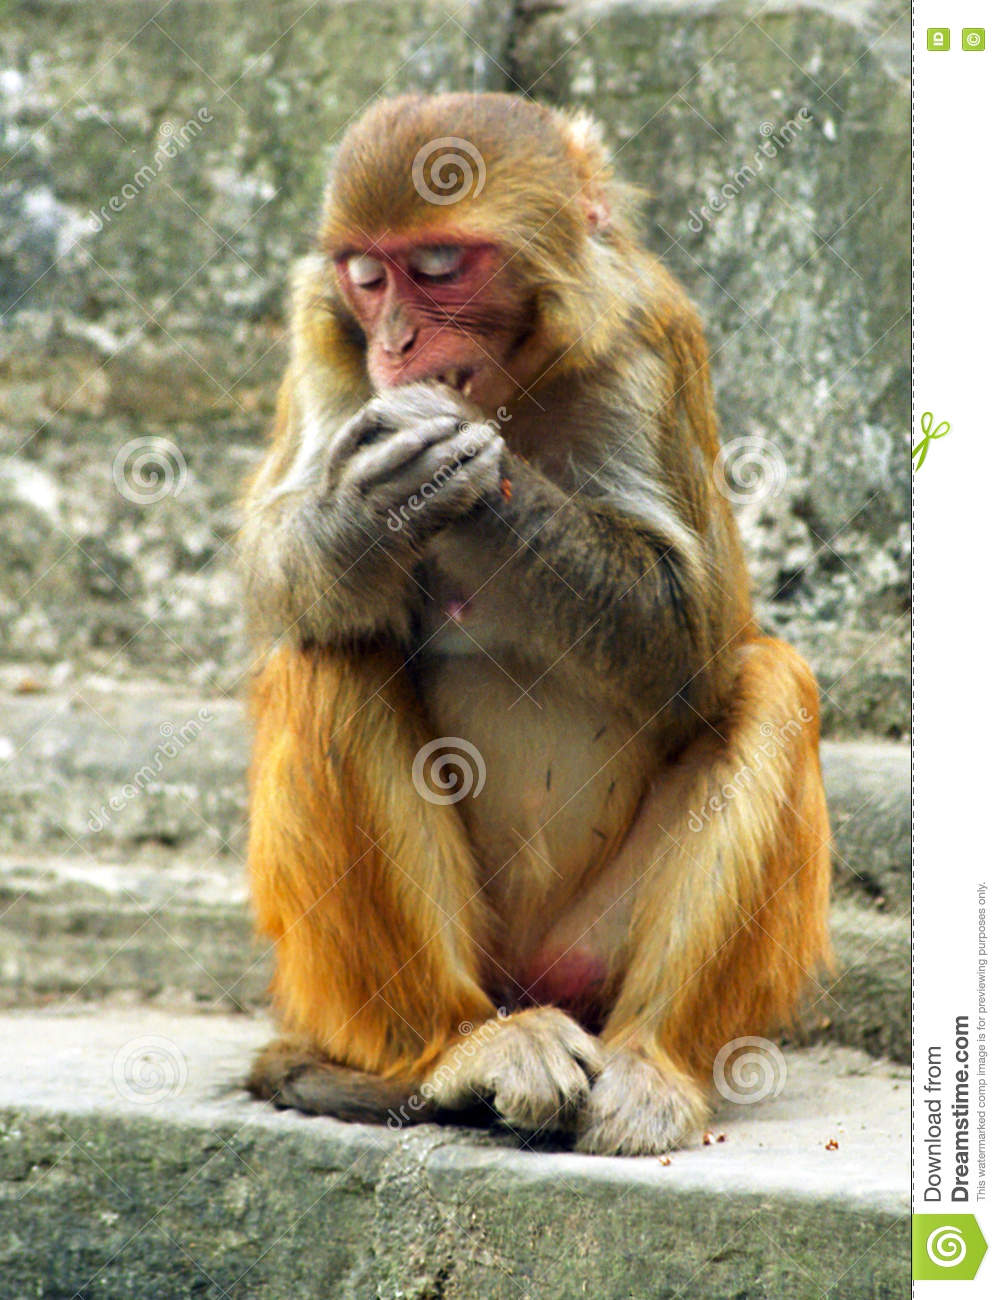monkey: (234, 73, 833, 1163)
